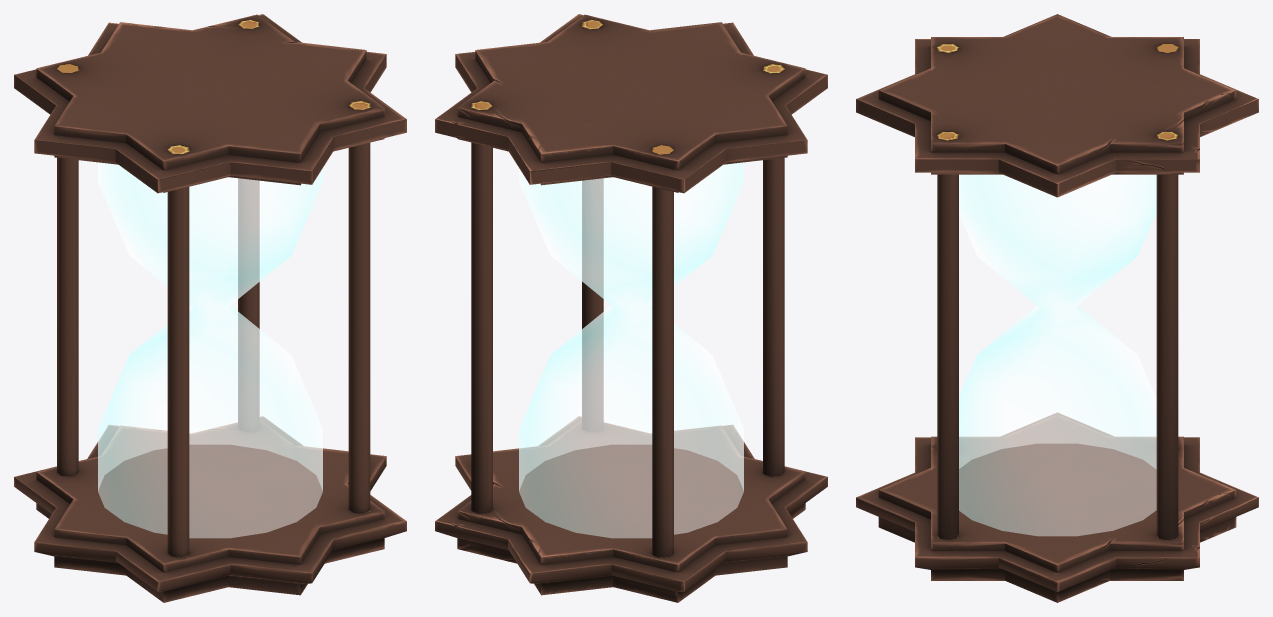
Rendered from SandTimer.FBX.
3 views of the same model, side by side, from view 1: azimuth 30°, elevation 25°; view 2: azimuth 150°, elevation 25°; view 3: azimuth 270°, elevation 25° (orthographic).
Visible parts, largest first — view 1: Object001; view 2: Object001; view 3: Object001.
Boxes of the visible parts, box(x1,y1,x2,y2) form: Object001: box(14, 14, 406, 602); Object001: box(435, 14, 827, 602); Object001: box(856, 14, 1258, 602).
Size of the model in its own units: 31.86 by 38.15 by 31.86.
